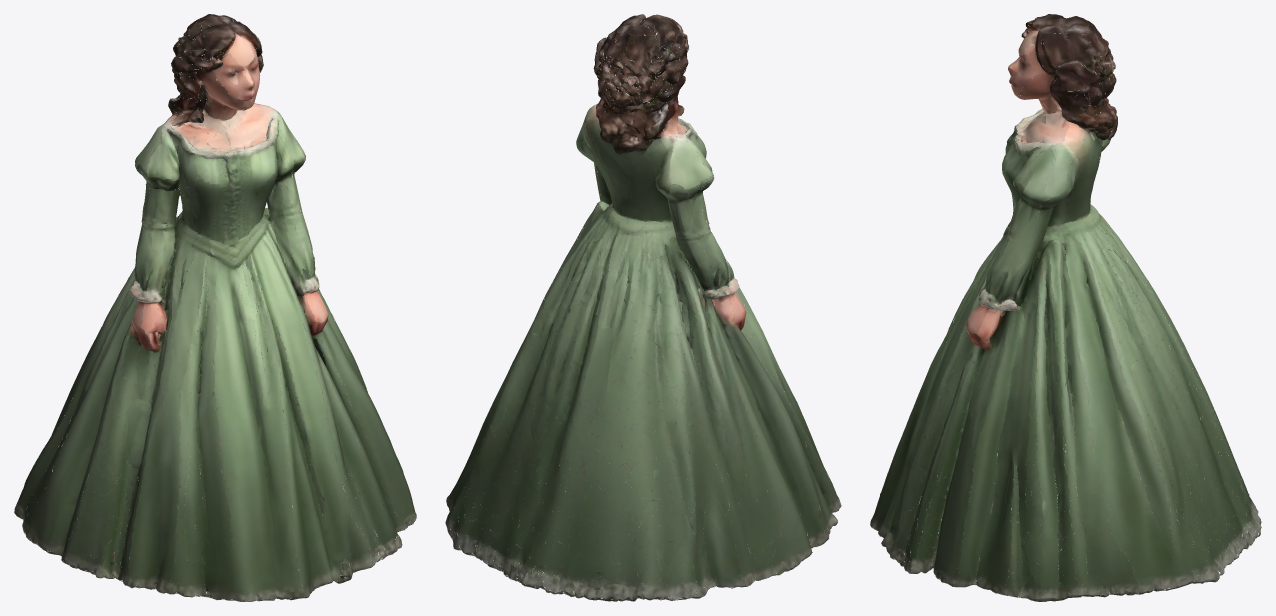
File: char_actor_f.glb
The picture shows the model from 3 angles, left to right: view 1: azimuth 30°, elevation 25°; view 2: azimuth 150°, elevation 25°; view 3: azimuth 270°, elevation 25°; orthographic projection.
Parts seen in each view (by area): view 1: geometry_0; view 2: geometry_0; view 3: geometry_0.
Boxes of the visible parts, x1,y1,x2,y2 form: geometry_0: (14, 14, 416, 601); geometry_0: (445, 14, 841, 601); geometry_0: (870, 14, 1261, 601).
Bounding box in the file's own units: 1.17 × 1.7 × 1.17.
1 material, 1 textured.
